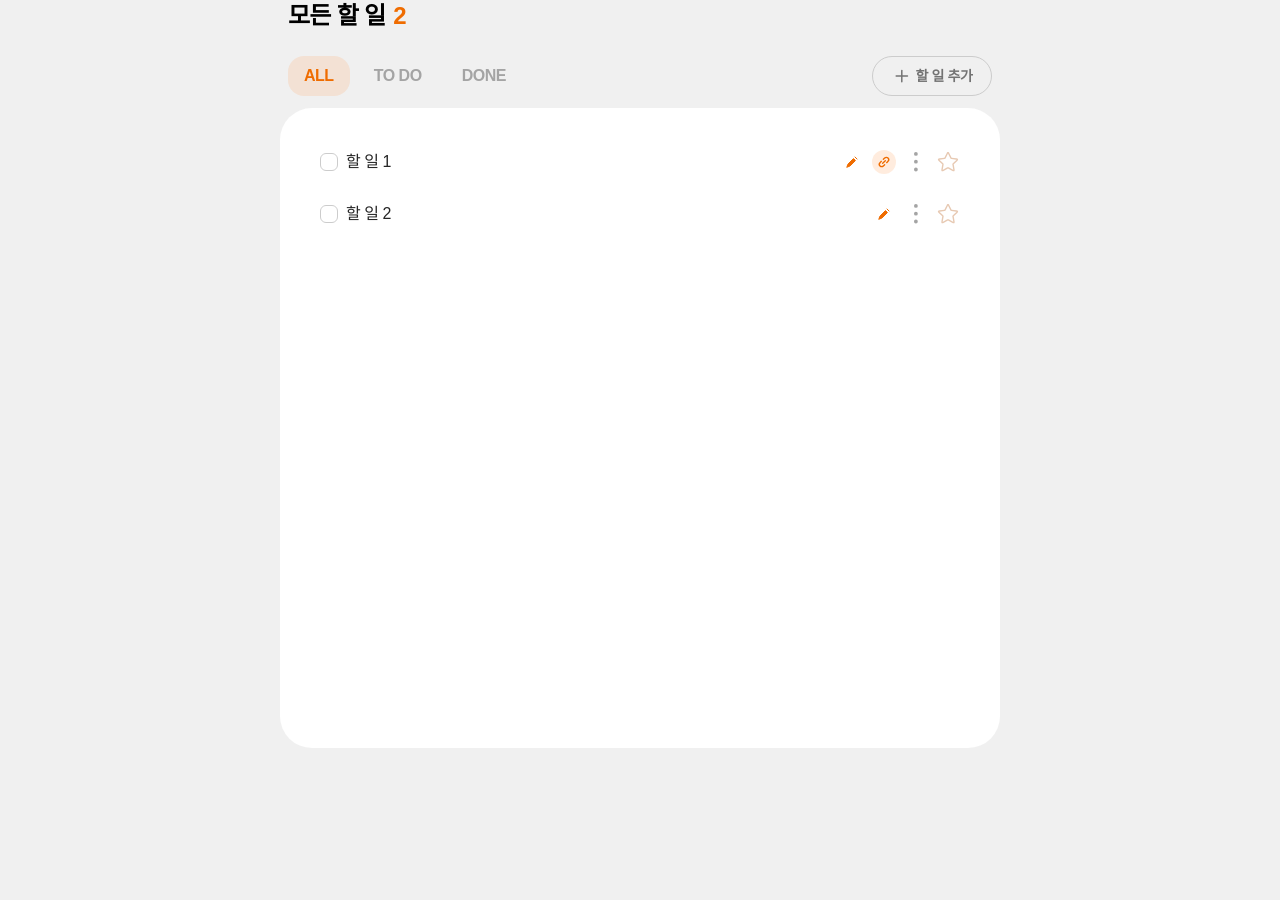
Test: 할 일 아이템 상호작용 › 케밥 > 삭제하기 › 취소하면 모달만 닫히고 삭제하지 않는다
Check: the button "할 일 1" is shown, box left=346, top=150, right=832, bottom=174
Click the 1st button named "더보기": (916, 162) left=904, top=150, right=928, bottom=174
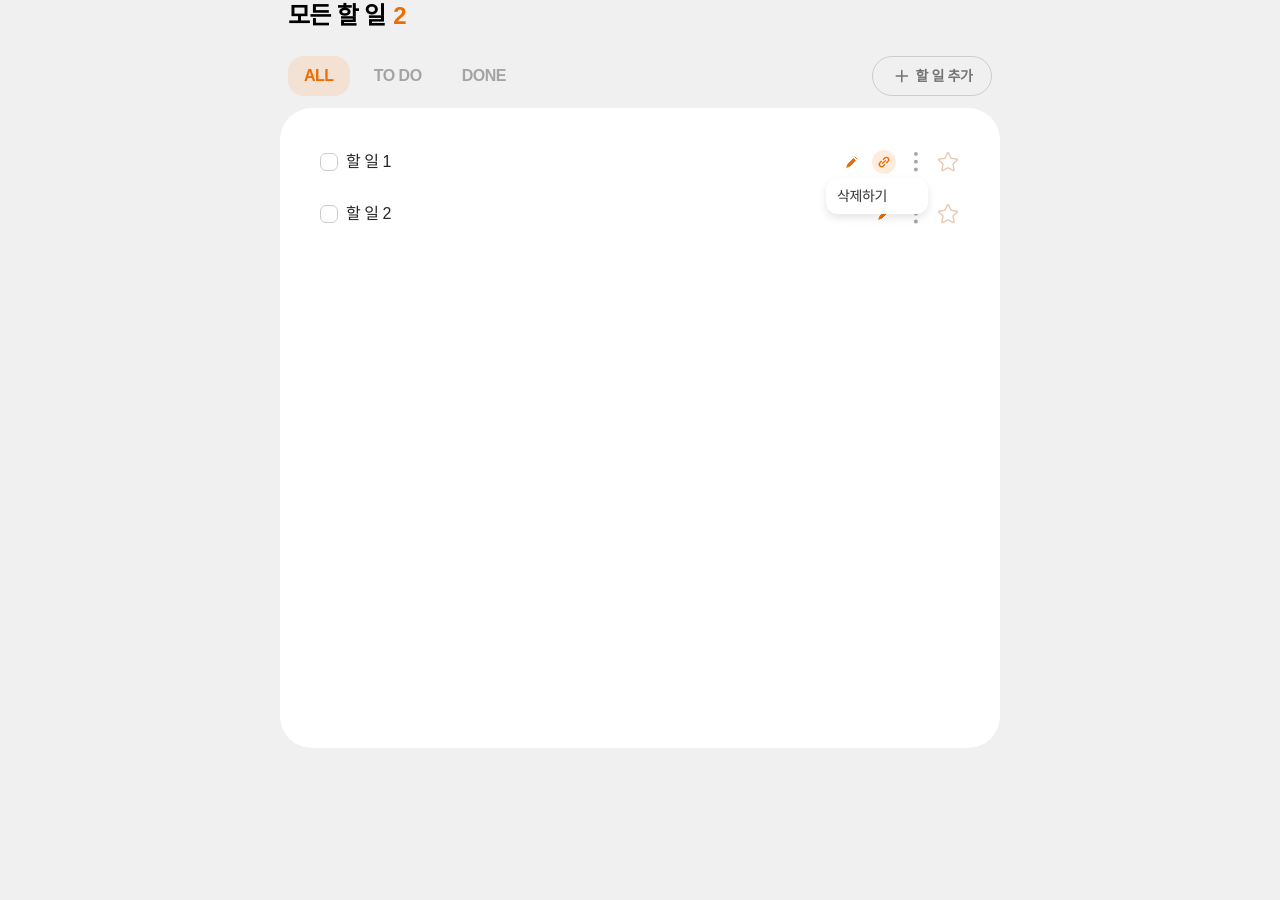
Click the menu item "삭제하기": (862, 196) left=837, top=188, right=887, bottom=204
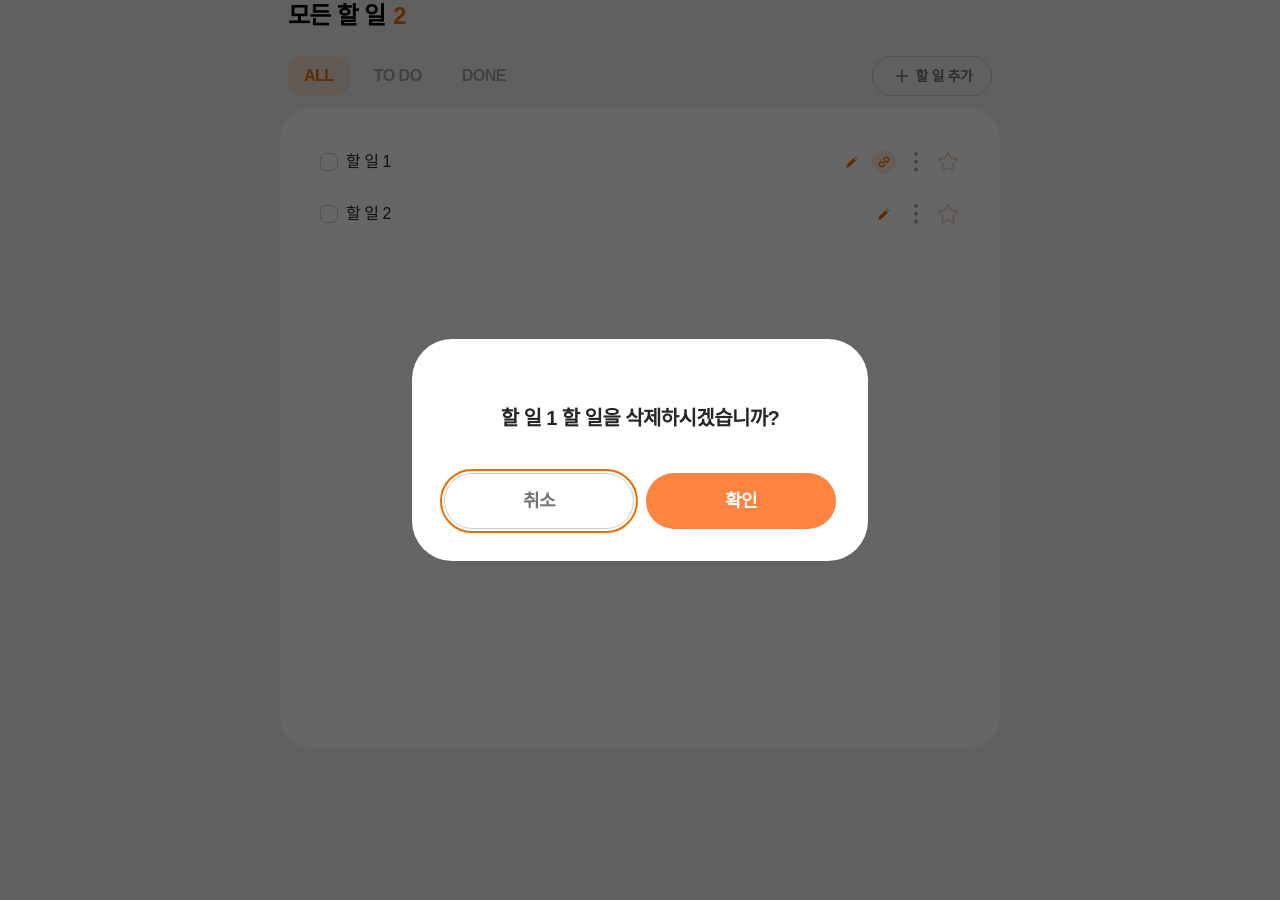
Click the button "취소": (539, 501) left=444, top=473, right=634, bottom=529
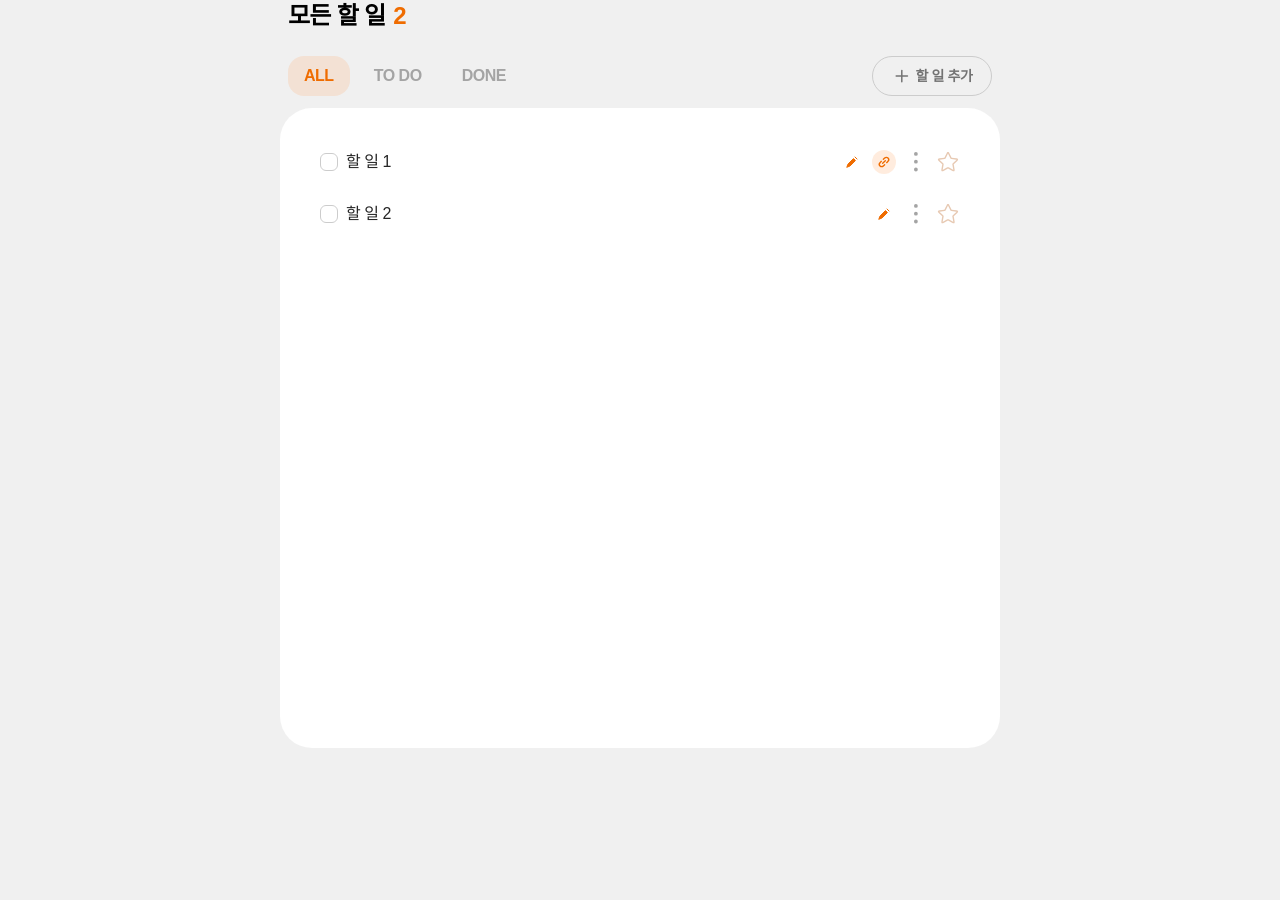
Check: the button "할 일 1" is shown, box left=346, top=150, right=832, bottom=174
Check: the dialog is gone
